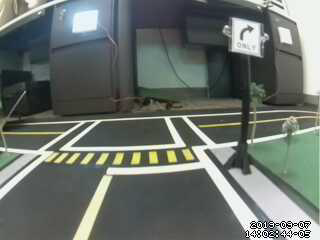Right_only_sign: (233, 20, 264, 57)
